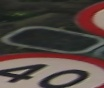Speed limit: (0, 45, 103, 87)
